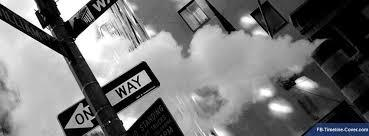fire: (48, 0, 338, 132)
